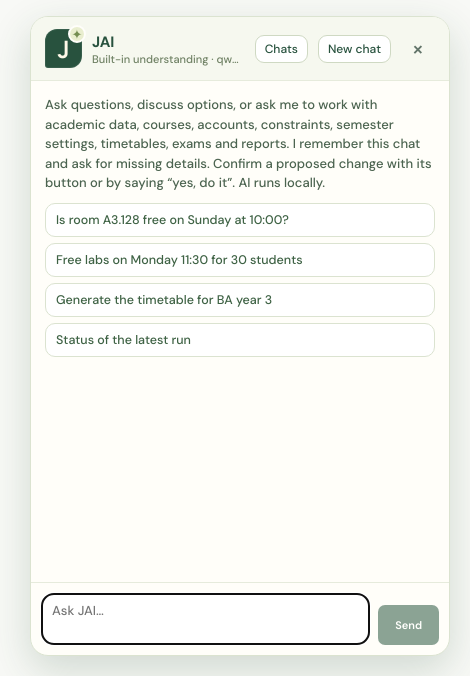
Scenario: a chat keeps its id, so the server keeps the context of follow-ups
Check: the text "Built-in understanding · qwen2.5:7b-instruct on this server" is shown, box 92,52 -> 245,66
Step 1. Type "Is A3.128 free on Sunday at 9?" into the text box named "Message to JAI" → (206, 619), box 41,593 -> 370,645
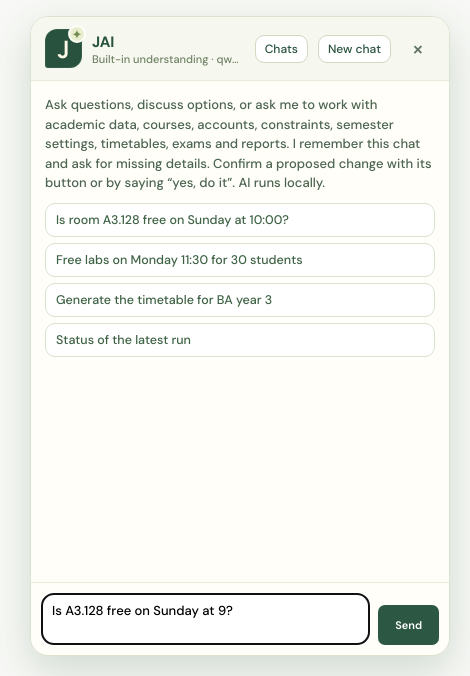
Step 2. Click the button "Send" → (409, 625), box 378,605 -> 439,645
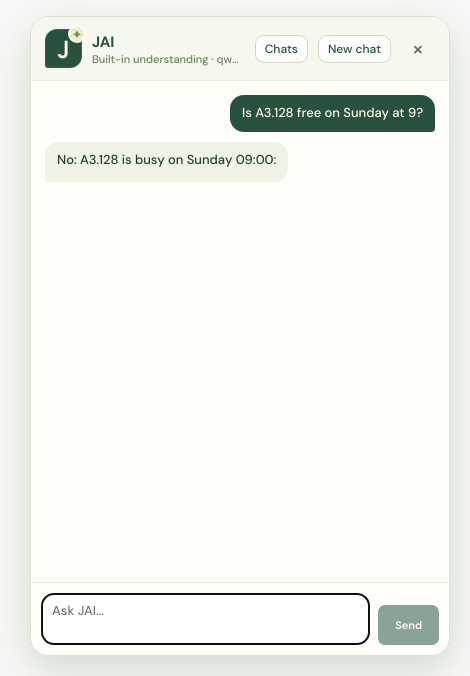
Check: the text "No: A3.128 is busy on Sunday 09:00:" is shown, box 57,151 -> 276,170
Step 3. Type "is it free at 11?" into the text box named "Message to JAI" → (206, 619), box 41,593 -> 370,645
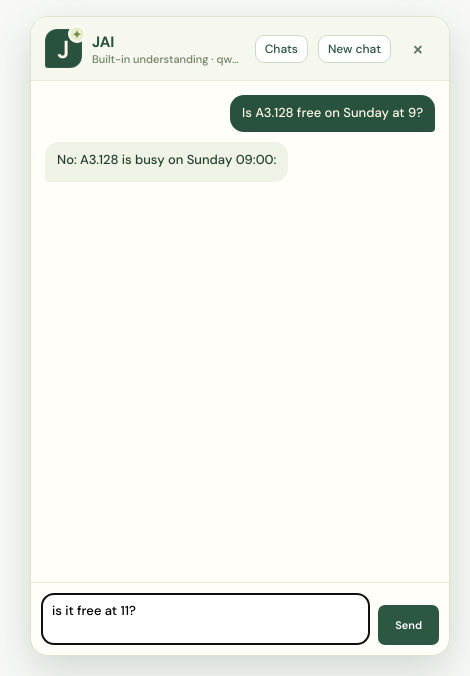
Step 4. Click the button "Send" → (409, 625), box 378,605 -> 439,645
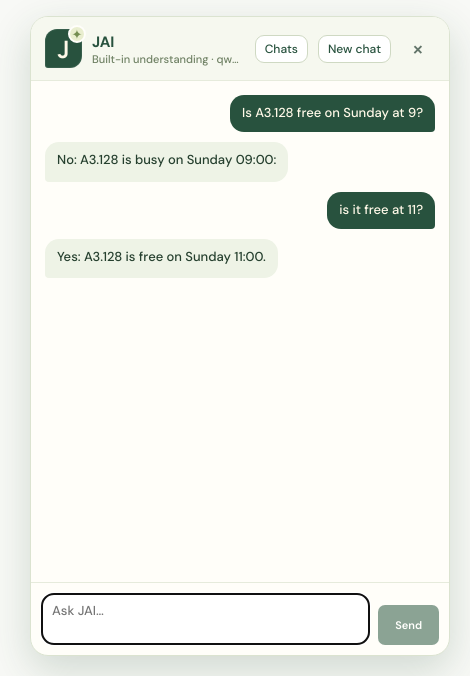
Check: the text "Yes: A3.128 is free on Sunday 11:00." is shown, box 57,248 -> 266,266
